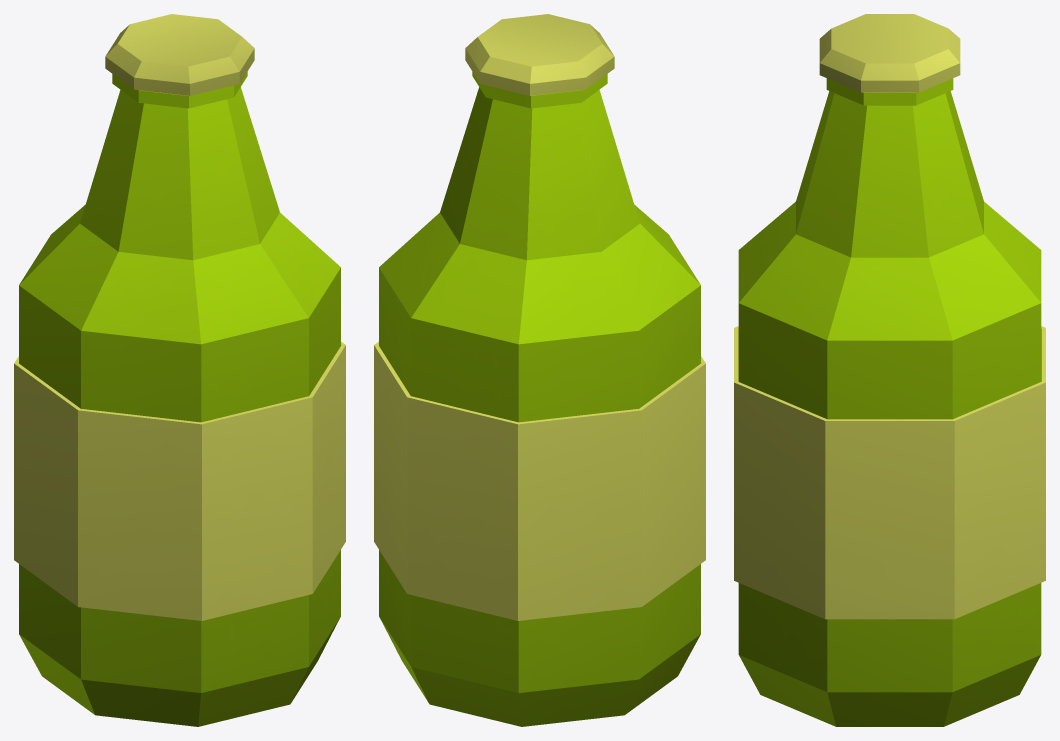
File: Bottle_glass_2.fbx
3 renders of one model, left to right at view 1: azimuth 30°, elevation 25°; view 2: azimuth 150°, elevation 25°; view 3: azimuth 270°, elevation 25°, orthographic.
Visible parts, largest first — view 1: Bottle_glass_1; view 2: Bottle_glass_1; view 3: Bottle_glass_1.
Boxes of the visible parts, x1,y1,x2,y2 form: Bottle_glass_1: [14, 14, 345, 726]; Bottle_glass_1: [374, 14, 705, 726]; Bottle_glass_1: [734, 14, 1045, 726].
Bounding box in the file's own units: 5.85 × 13.11 × 5.85.
